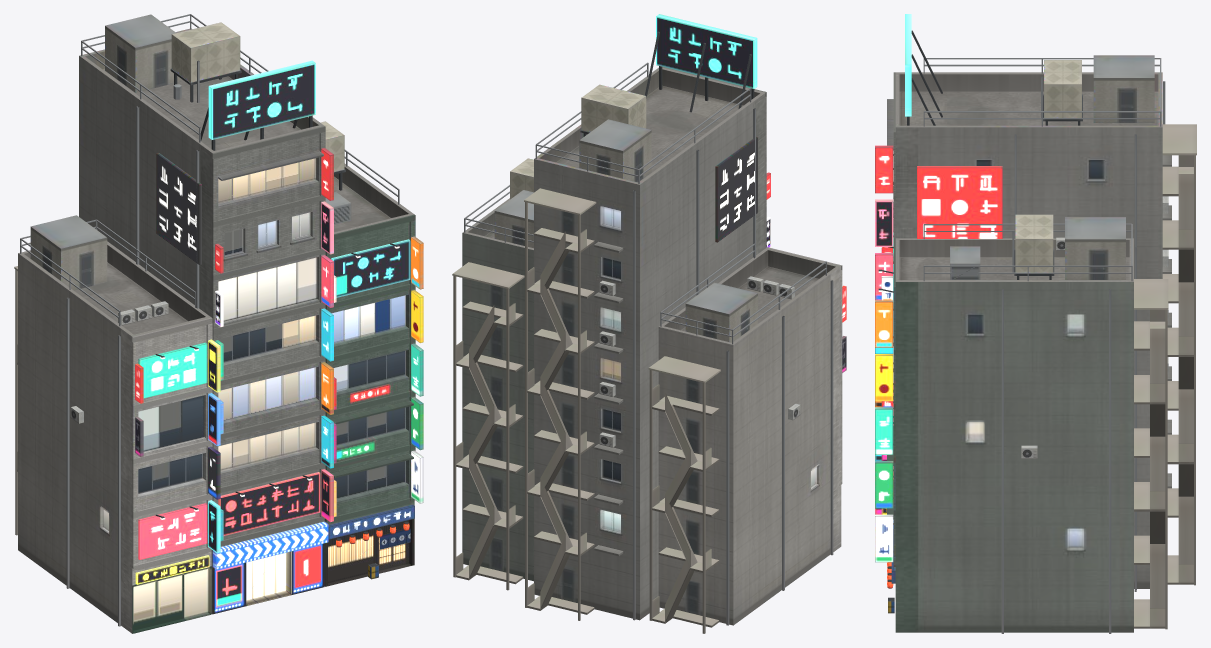
The model's file is tokyo_zakkyo_d.glb.
3 renders of one model, left to right at view 1: azimuth 30°, elevation 25°; view 2: azimuth 150°, elevation 25°; view 3: azimuth 270°, elevation 25°, orthographic. The views are drawn at different scales.
Parts seen in each view (by area): view 1: tokyo_zakkyo_d; view 2: tokyo_zakkyo_d; view 3: tokyo_zakkyo_d.
Part boxes in pixels (x1,y1,x2,y2): tokyo_zakkyo_d: (14, 14, 423, 633); tokyo_zakkyo_d: (452, 14, 846, 633); tokyo_zakkyo_d: (875, 14, 1196, 633).
Bounding box in the file's own units: 17.74 × 30.2 × 16.87.
Materials: 1 (1 with a texture image).
